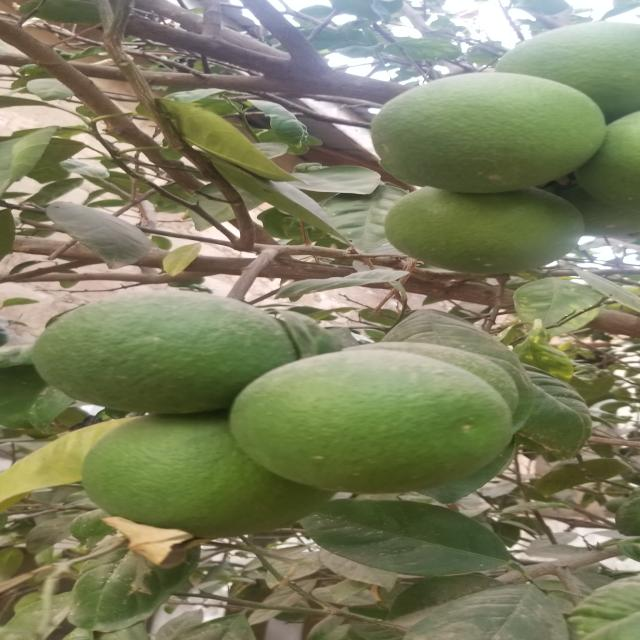Unripe: (238, 348, 529, 511), (68, 412, 336, 550), (33, 284, 271, 430), (360, 75, 608, 195), (379, 192, 594, 278)
